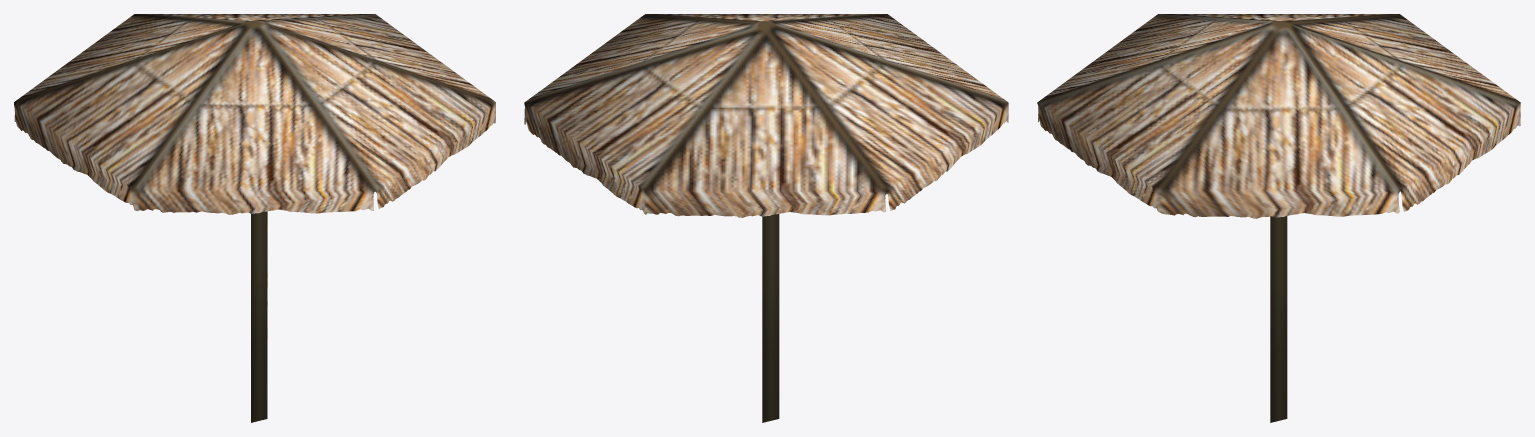
File: parasol2.fbx
3 renders of one model, left to right at view 1: azimuth 30°, elevation 25°; view 2: azimuth 150°, elevation 25°; view 3: azimuth 270°, elevation 25°, orthographic.
Visible parts, largest first — view 1: parasol2; view 2: parasol2; view 3: parasol2.
Part boxes in pixels (left/top/right/bottom): parasol2: left=14, top=14, right=495, bottom=422; parasol2: left=524, top=14, right=1008, bottom=422; parasol2: left=1037, top=14, right=1520, bottom=422.
Bounding box in the file's own units: 375 × 393 × 433.
Materials: 1 (1 with a texture image).
